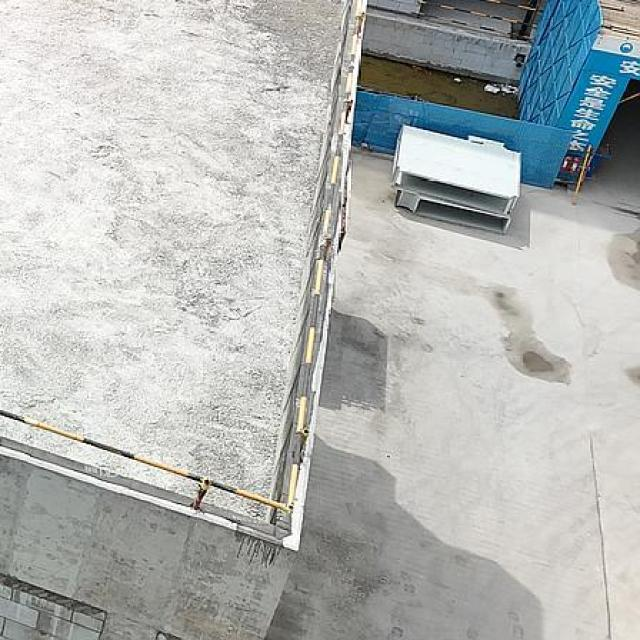edge_guardrail: (0, 0, 383, 521), (410, 0, 541, 46)
